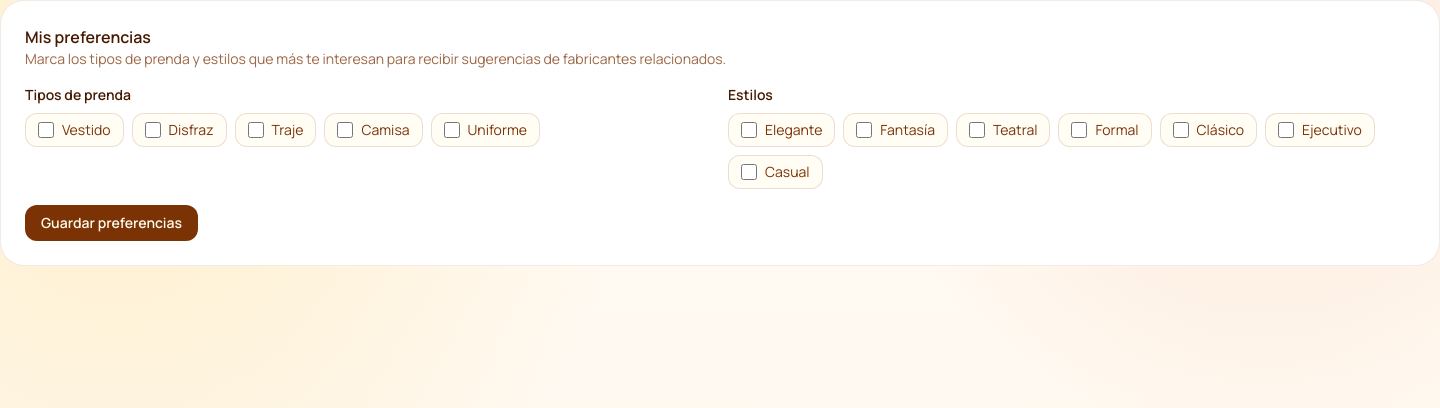
it: HU-07: el cliente puede definir sus propias preferencias desde la UI › PreferencesCard envía los tipos de prenda y estilos marcados al guardar
Click the checkbox labelled "Vestido".
click(46, 130)  # box top-left (38, 122), bottom-right (54, 138)
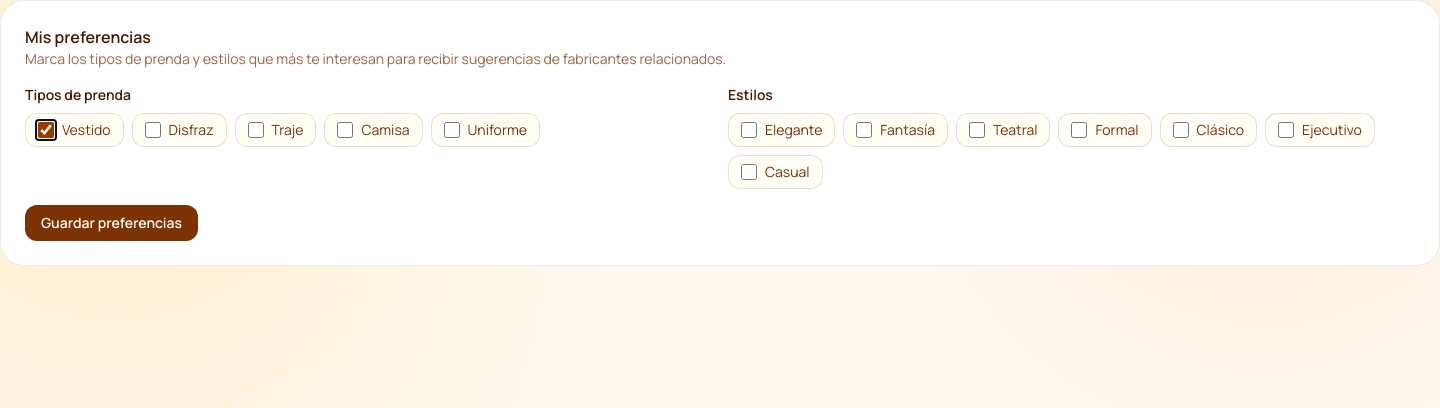
Click the checkbox labelled "Elegante".
click(749, 130)  # box top-left (741, 122), bottom-right (757, 138)
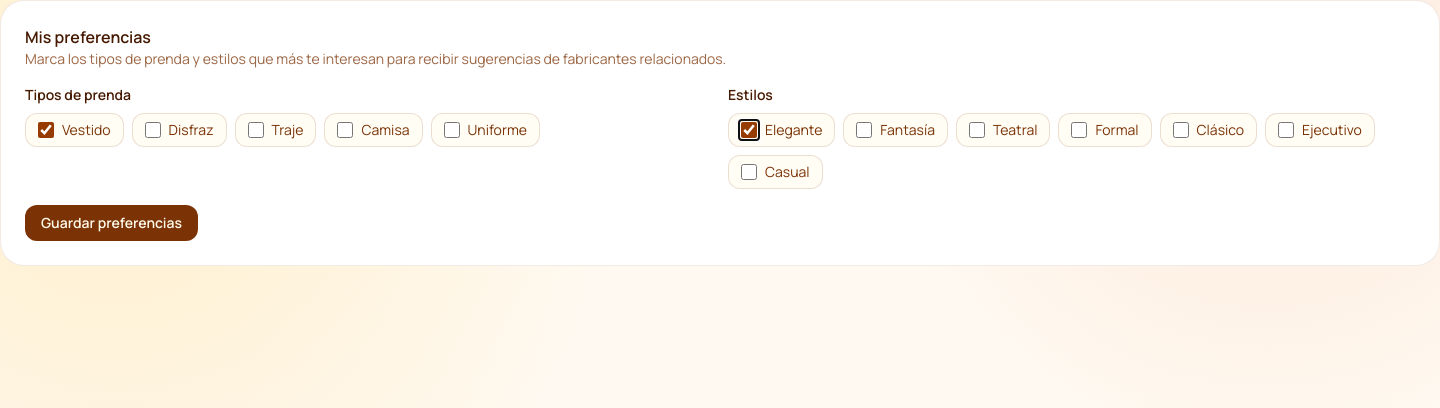
Click the button "Guardar preferencias".
click(111, 223)  # box top-left (25, 205), bottom-right (198, 241)
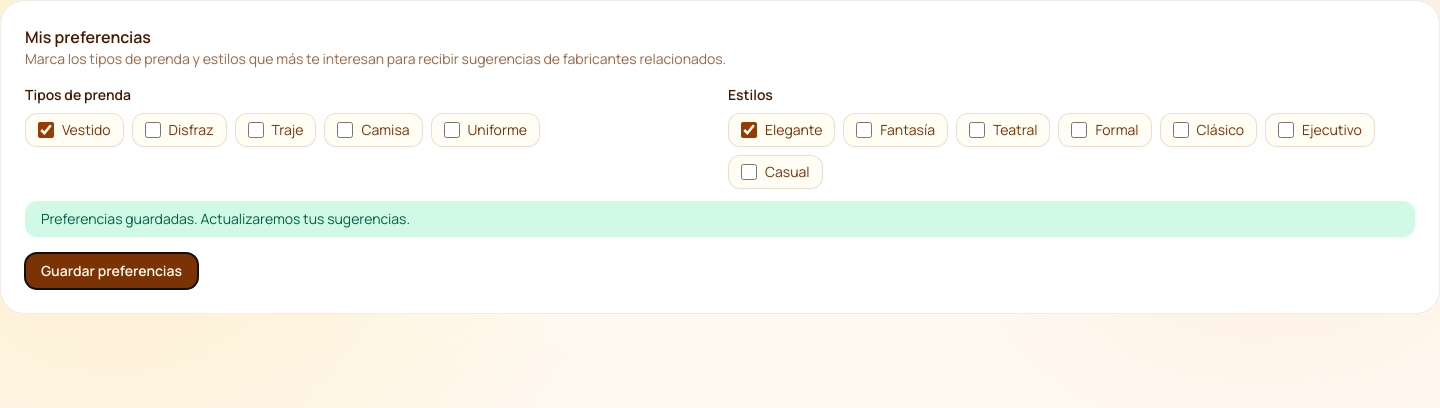
Expected: the text "Preferencias guardadas. Actualizaremos tus sugerencias." is shown, top-left (25, 201), bottom-right (1415, 237)
